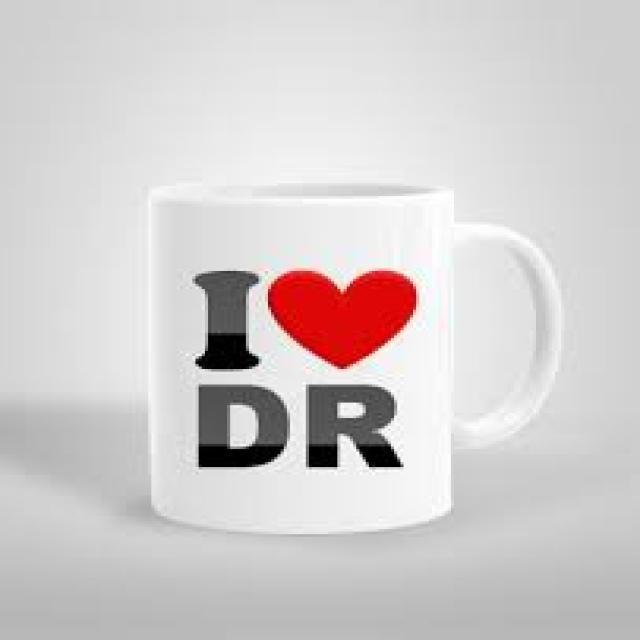taza: (135, 165, 568, 538)
